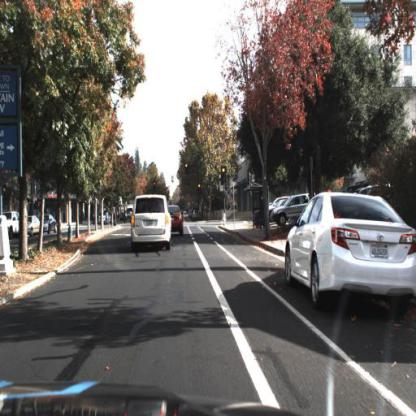car: (284, 190, 415, 320), (128, 190, 173, 254), (270, 192, 317, 228), (268, 192, 310, 229), (0, 208, 21, 239), (40, 211, 62, 239), (24, 210, 43, 239), (169, 203, 184, 239), (39, 211, 59, 237), (24, 214, 40, 236)
trafficLight-Red: (219, 165, 227, 188), (182, 162, 189, 178), (220, 167, 226, 185), (195, 181, 203, 194), (197, 180, 202, 195), (184, 162, 188, 175)
trafficLight-RedLeft: (150, 177, 158, 189), (152, 180, 157, 194)
